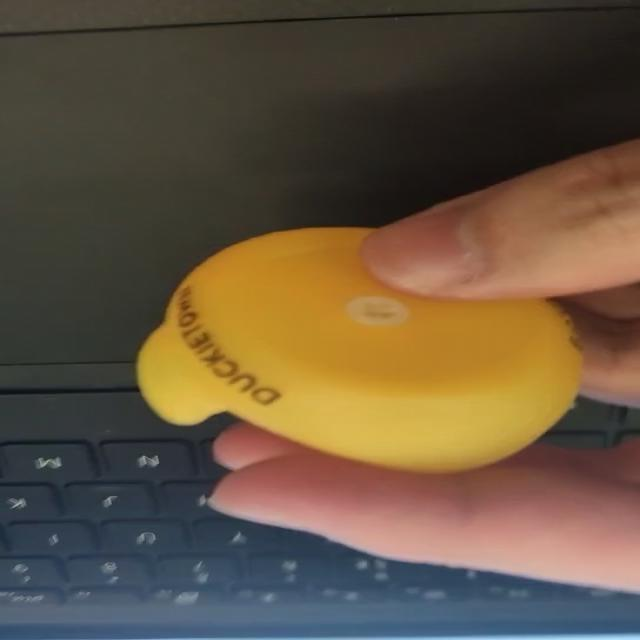rubber-duck: (136, 227, 579, 470)
